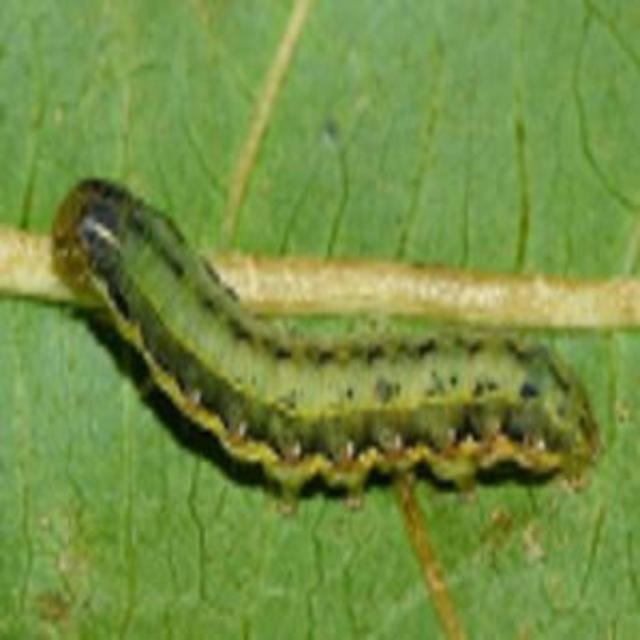Beet armyworm: (26, 136, 626, 560)
